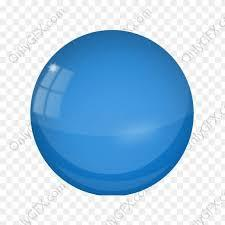blue_circle: (29, 30, 192, 198)
